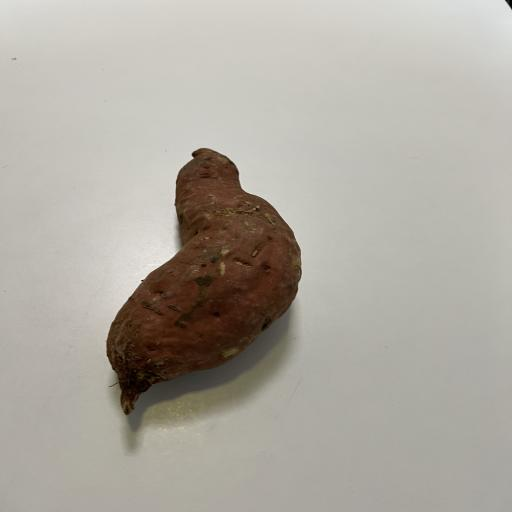sweet_potato: (83, 140, 356, 419)
